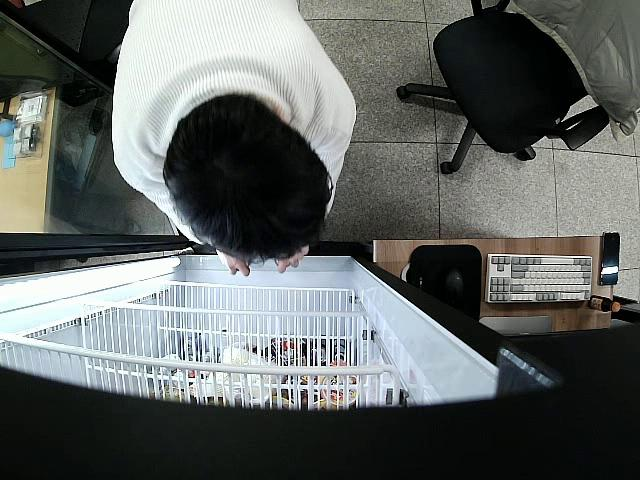00_hand: (277, 242, 309, 275), (218, 249, 251, 277)
